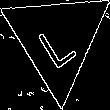L_NW: (33, 10, 81, 69)
